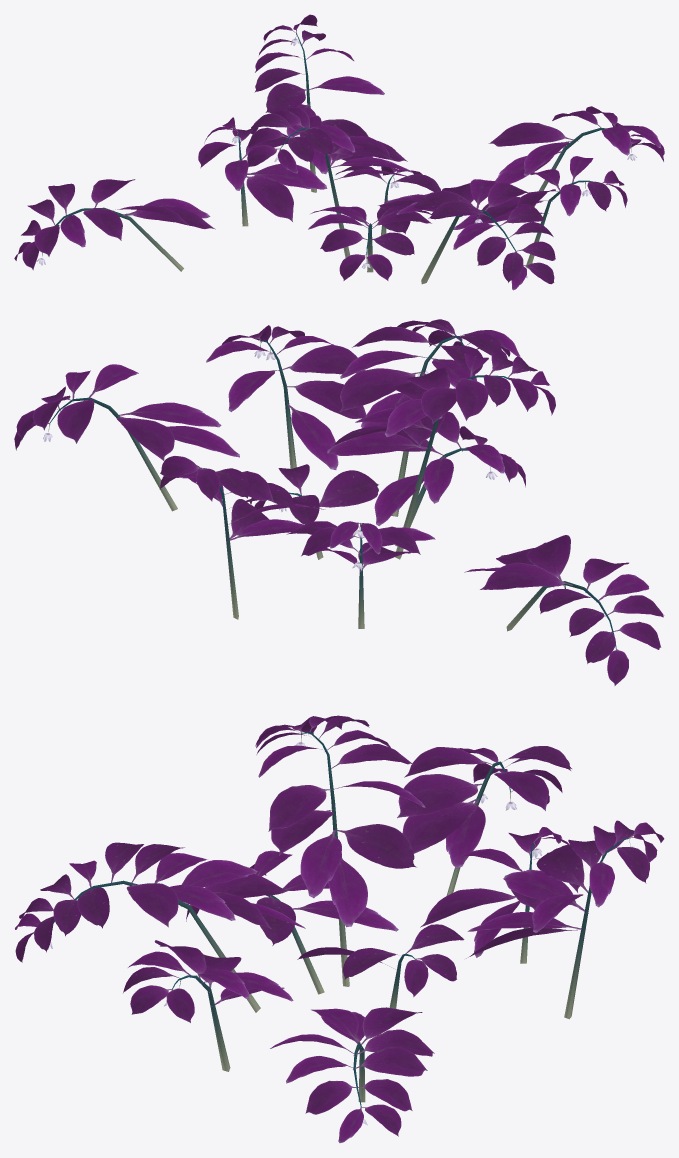
The picture shows the model from 3 angles, top to bottom: view 1: azimuth 30°, elevation 25°; view 2: azimuth 150°, elevation 25°; view 3: azimuth 270°, elevation 25°; orthographic projection. The views are drawn at different scales.
Parts seen in each view (by area): view 1: SM_GF_Lily_02_LOD0; view 2: SM_GF_Lily_02_LOD0; view 3: SM_GF_Lily_02_LOD0.
Boxes of the visible parts, x1,y1,x2,y2 form: SM_GF_Lily_02_LOD0: (14, 14, 664, 290); SM_GF_Lily_02_LOD0: (14, 319, 664, 685); SM_GF_Lily_02_LOD0: (15, 715, 664, 1142).
Bounding box in the file's own units: 2 × 0.5574 × 1.49.
1 material, 1 textured.
